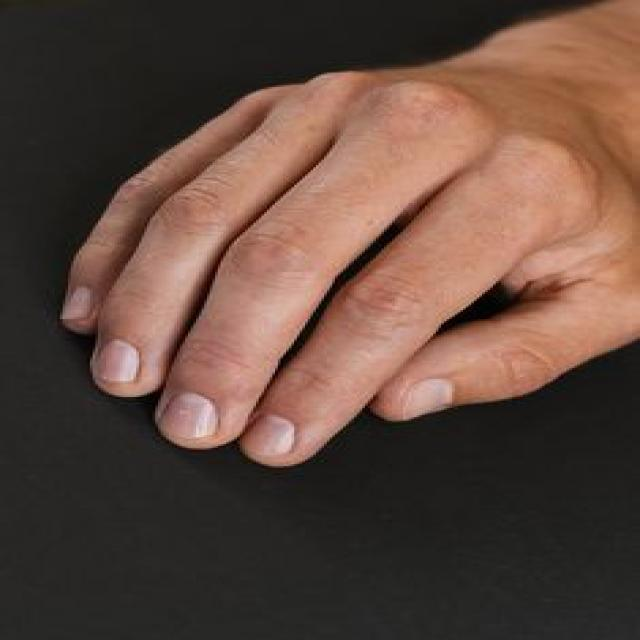Fingernail: (158, 392, 220, 439), (244, 414, 295, 457), (404, 378, 454, 420), (96, 340, 141, 382), (59, 286, 94, 320)
